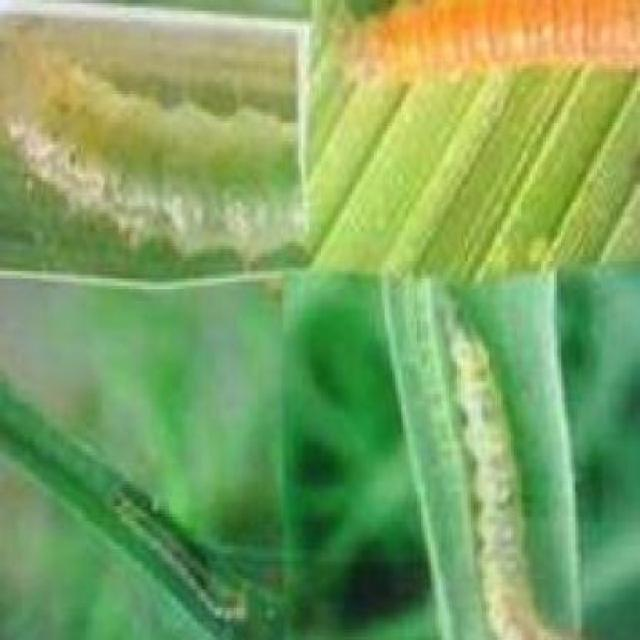leaf-folder: (390, 307, 607, 640), (26, 42, 286, 276), (73, 422, 264, 632), (341, 0, 640, 109)
